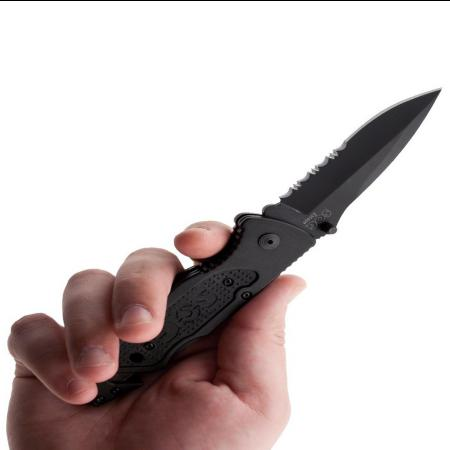long weapon: (109, 80, 450, 350)
